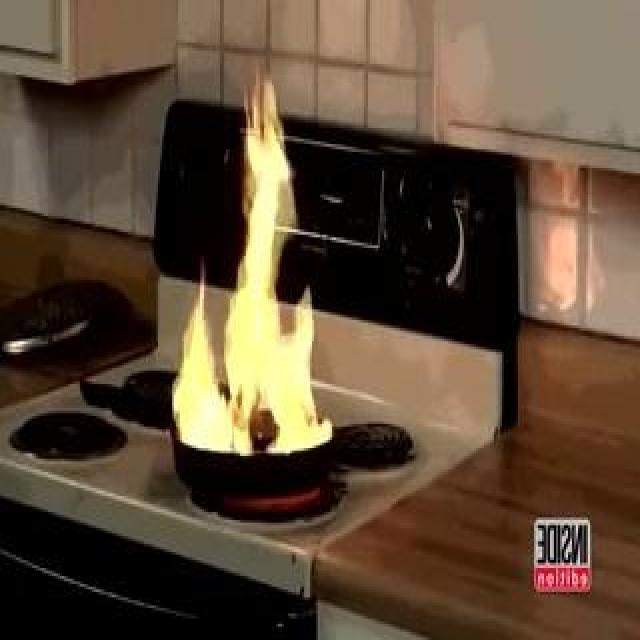Fire: (175, 99, 335, 461)
